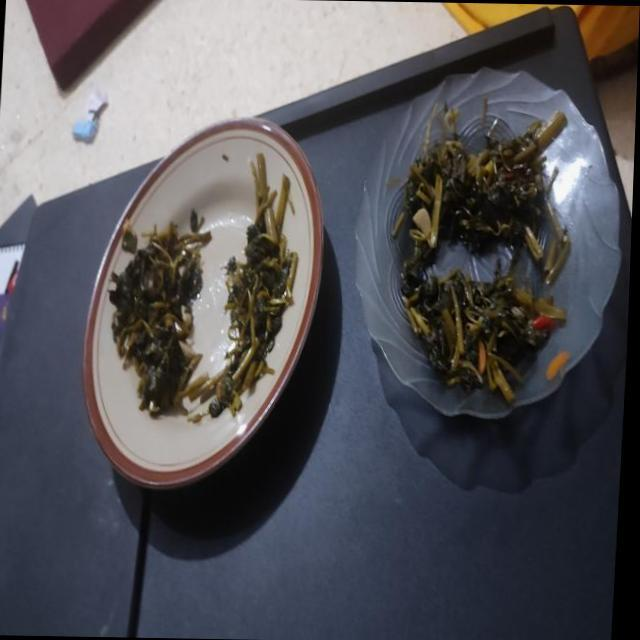tumis_kangkung: (403, 111, 566, 275), (208, 152, 298, 416), (403, 268, 565, 402), (108, 214, 211, 414)
